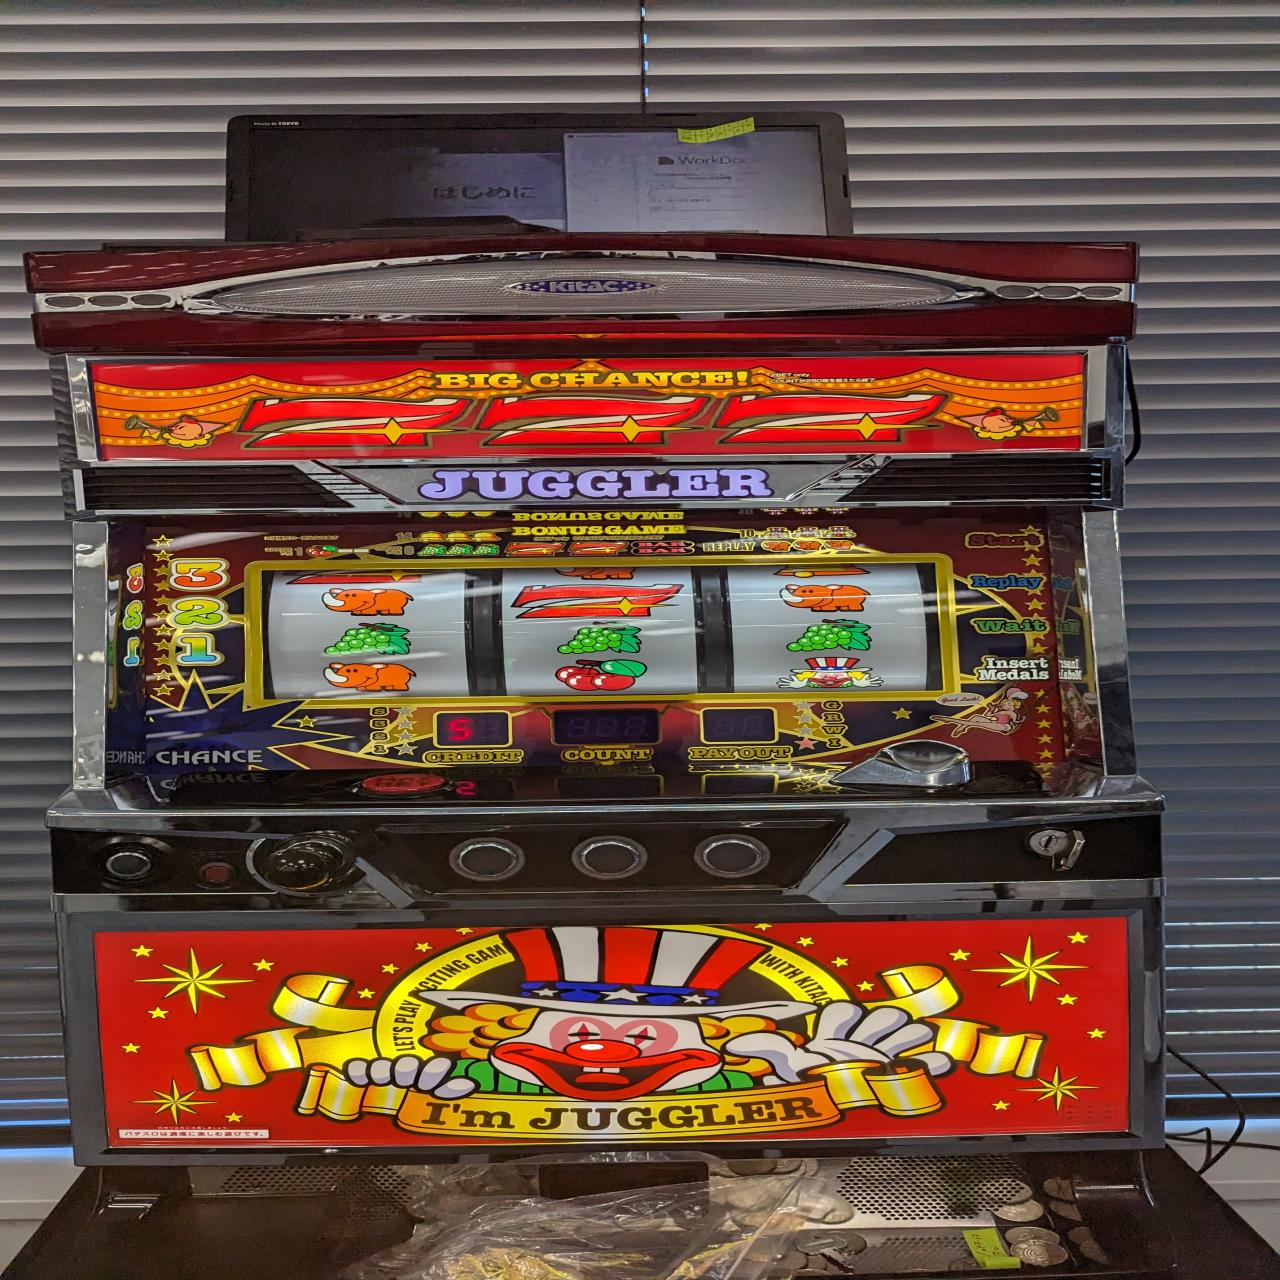7: (510, 581, 687, 621)
Display: (252, 554, 953, 693)
cherry: (549, 658, 649, 693)
clown: (772, 654, 887, 690)
grape: (781, 614, 877, 654), (553, 619, 647, 658), (321, 621, 414, 658)
rhino: (318, 660, 425, 693), (779, 581, 878, 614), (319, 586, 416, 618)
